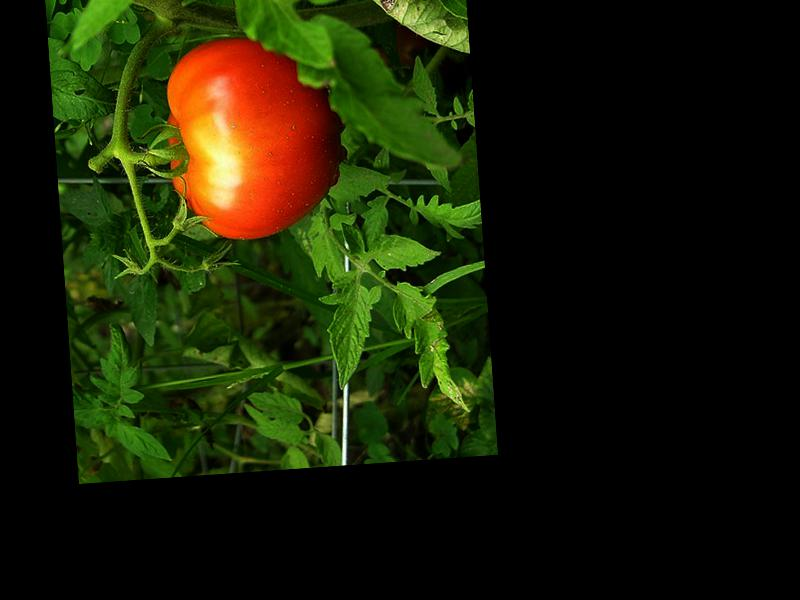Tomato: (160, 32, 344, 242)
